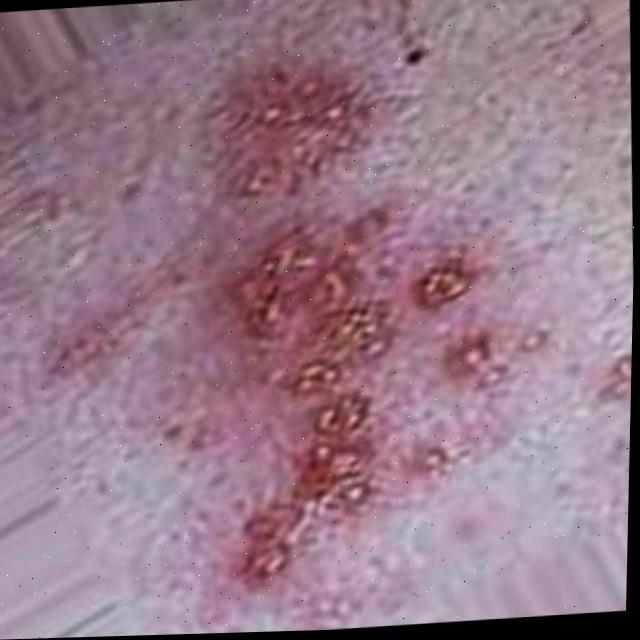Shingles: (169, 45, 562, 613), (599, 351, 632, 406)
